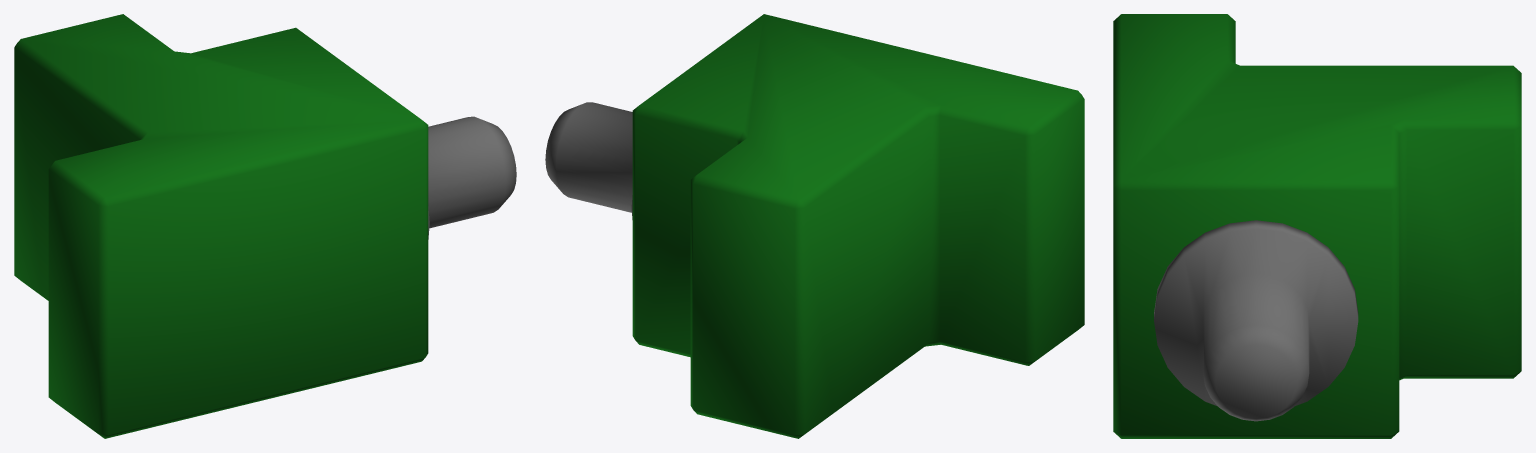
The model's file is sensor_green.dae.
The picture shows the model from 3 angles, left to right: view 1: azimuth 30°, elevation 25°; view 2: azimuth 150°, elevation 25°; view 3: azimuth 270°, elevation 25°; orthographic projection. The views are drawn at different scales.
Visible parts, largest first — view 1: sensor_peg; view 2: sensor_peg; view 3: sensor_peg.
Boxes of the visible parts, x1,y1,x2,y2 form: sensor_peg: (14, 14, 516, 438); sensor_peg: (545, 14, 1084, 438); sensor_peg: (1113, 14, 1521, 438).
Size of the model in its own units: 0.14 by 0.1 by 0.07.
